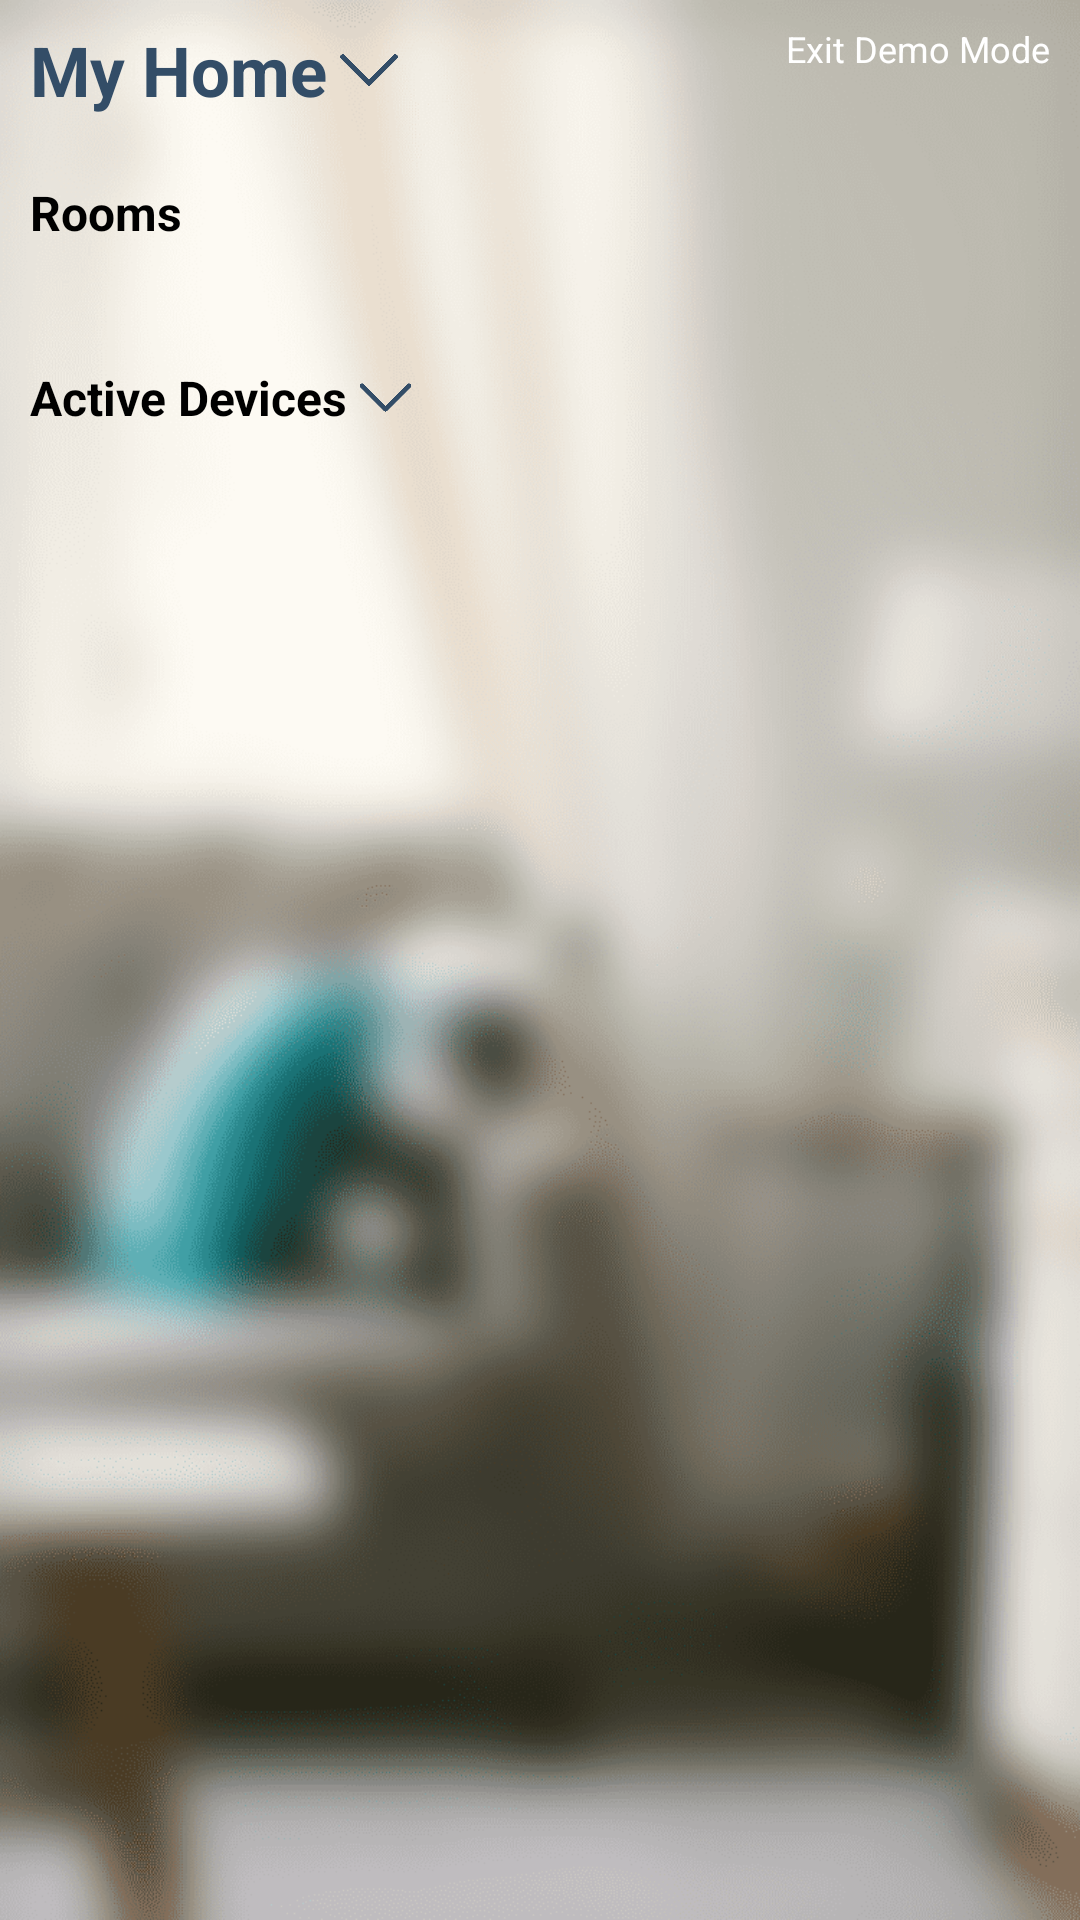

Where to tap for icons on this 1080*1920 app screen, as (x,y):
down arrow: (369,70), (381,407)
